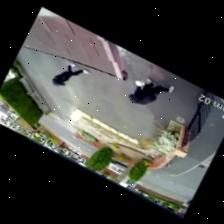person: (128, 77, 173, 104), (52, 61, 88, 85)
